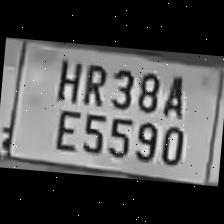0: (156, 120, 187, 166)
3: (105, 62, 136, 110)
5: (103, 110, 133, 158), (77, 108, 107, 154)
8: (132, 66, 162, 114)
9: (131, 116, 159, 162)
A: (158, 71, 190, 120)
E: (50, 104, 81, 152)
H: (50, 54, 84, 102)
R: (79, 60, 110, 108)
